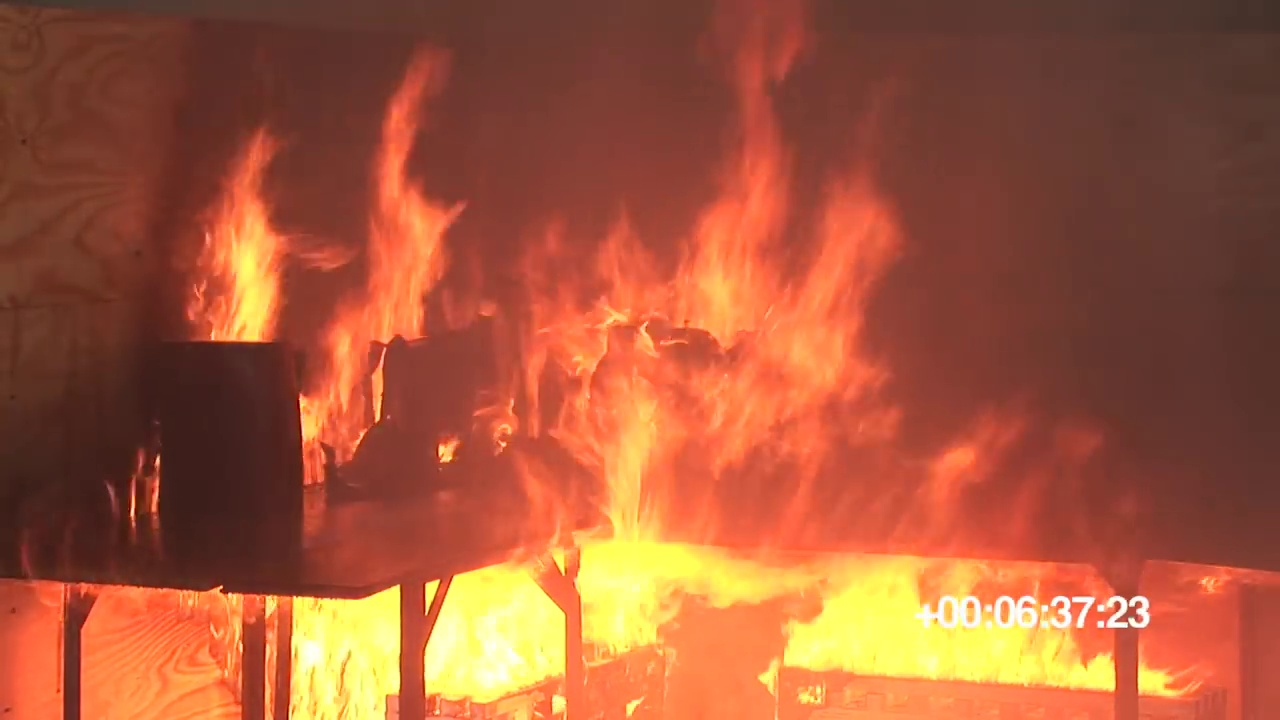fire: (544, 157, 906, 512), (293, 565, 1184, 703), (300, 92, 437, 463), (189, 138, 286, 342)
